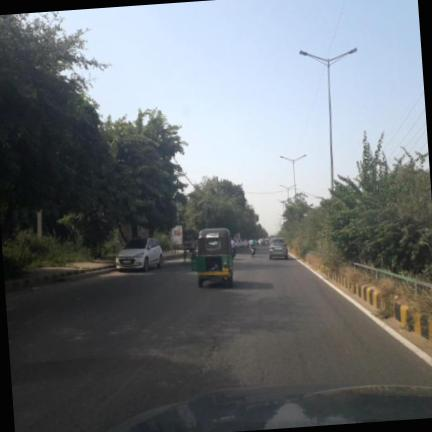Road: (6, 248, 431, 431)
